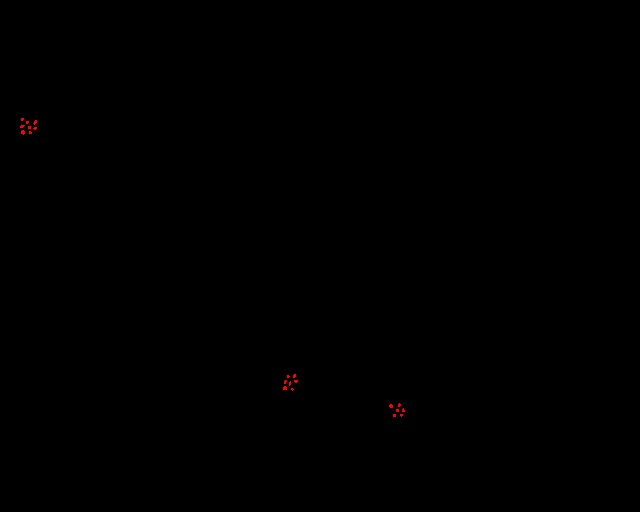Target: (33, 120, 37, 125), (21, 130, 25, 135), (283, 386, 287, 390), (389, 404, 393, 408), (20, 125, 25, 128), (33, 127, 37, 130), (293, 374, 296, 378), (284, 380, 287, 384), (294, 380, 298, 383), (398, 403, 401, 407), (402, 408, 405, 412), (289, 381, 291, 386), (21, 118, 24, 121), (26, 121, 29, 124), (28, 126, 31, 129), (29, 131, 32, 134), (287, 375, 290, 378), (291, 388, 294, 391), (396, 409, 399, 412), (393, 414, 396, 417), (400, 414, 403, 417)
